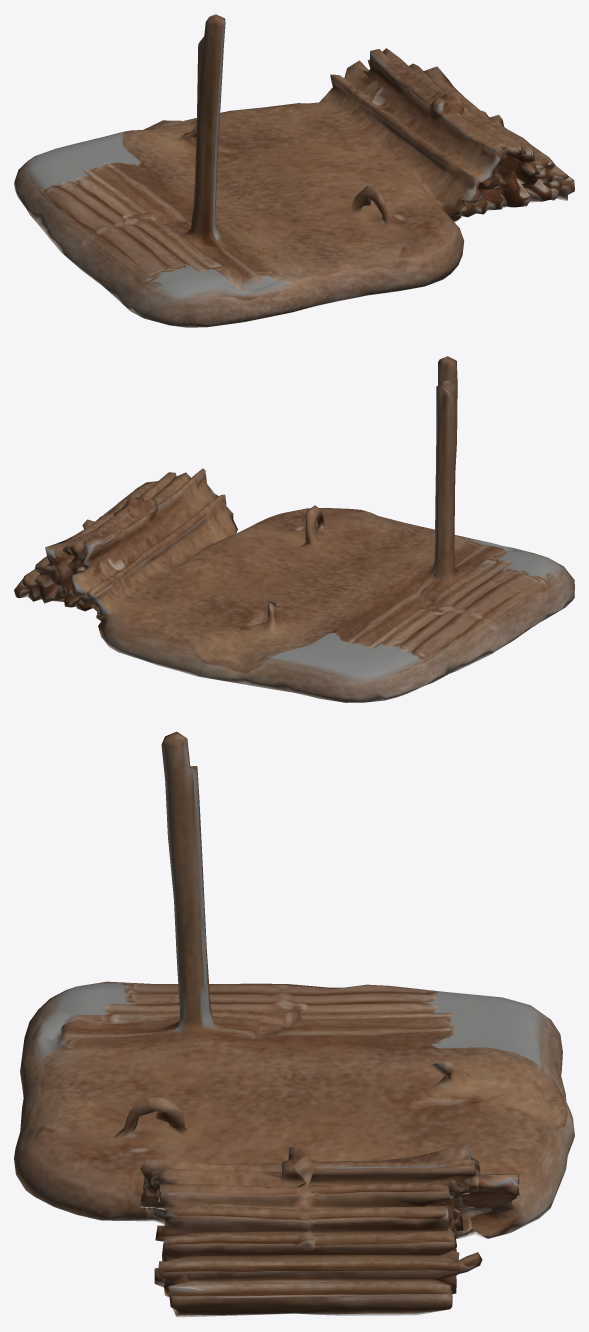
The model's file is construction_site.glb.
3 renders of one model, top to bottom at view 1: azimuth 30°, elevation 25°; view 2: azimuth 150°, elevation 25°; view 3: azimuth 270°, elevation 25°, orthographic. The views are drawn at different scales.
Visible parts, largest first — view 1: tripo_node_29bcbb2a-be35-4d5b-898b-d8f705d72222; view 2: tripo_node_29bcbb2a-be35-4d5b-898b-d8f705d72222; view 3: tripo_node_29bcbb2a-be35-4d5b-898b-d8f705d72222.
Boxes of the visible parts, x1,y1,x2,y2 form: tripo_node_29bcbb2a-be35-4d5b-898b-d8f705d72222: (14,14,574,327); tripo_node_29bcbb2a-be35-4d5b-898b-d8f705d72222: (14,356,574,702); tripo_node_29bcbb2a-be35-4d5b-898b-d8f705d72222: (14,731,574,1317).
Size of the model in its own units: 0.9998 by 0.559 by 0.7959.
1 material, 1 textured.
